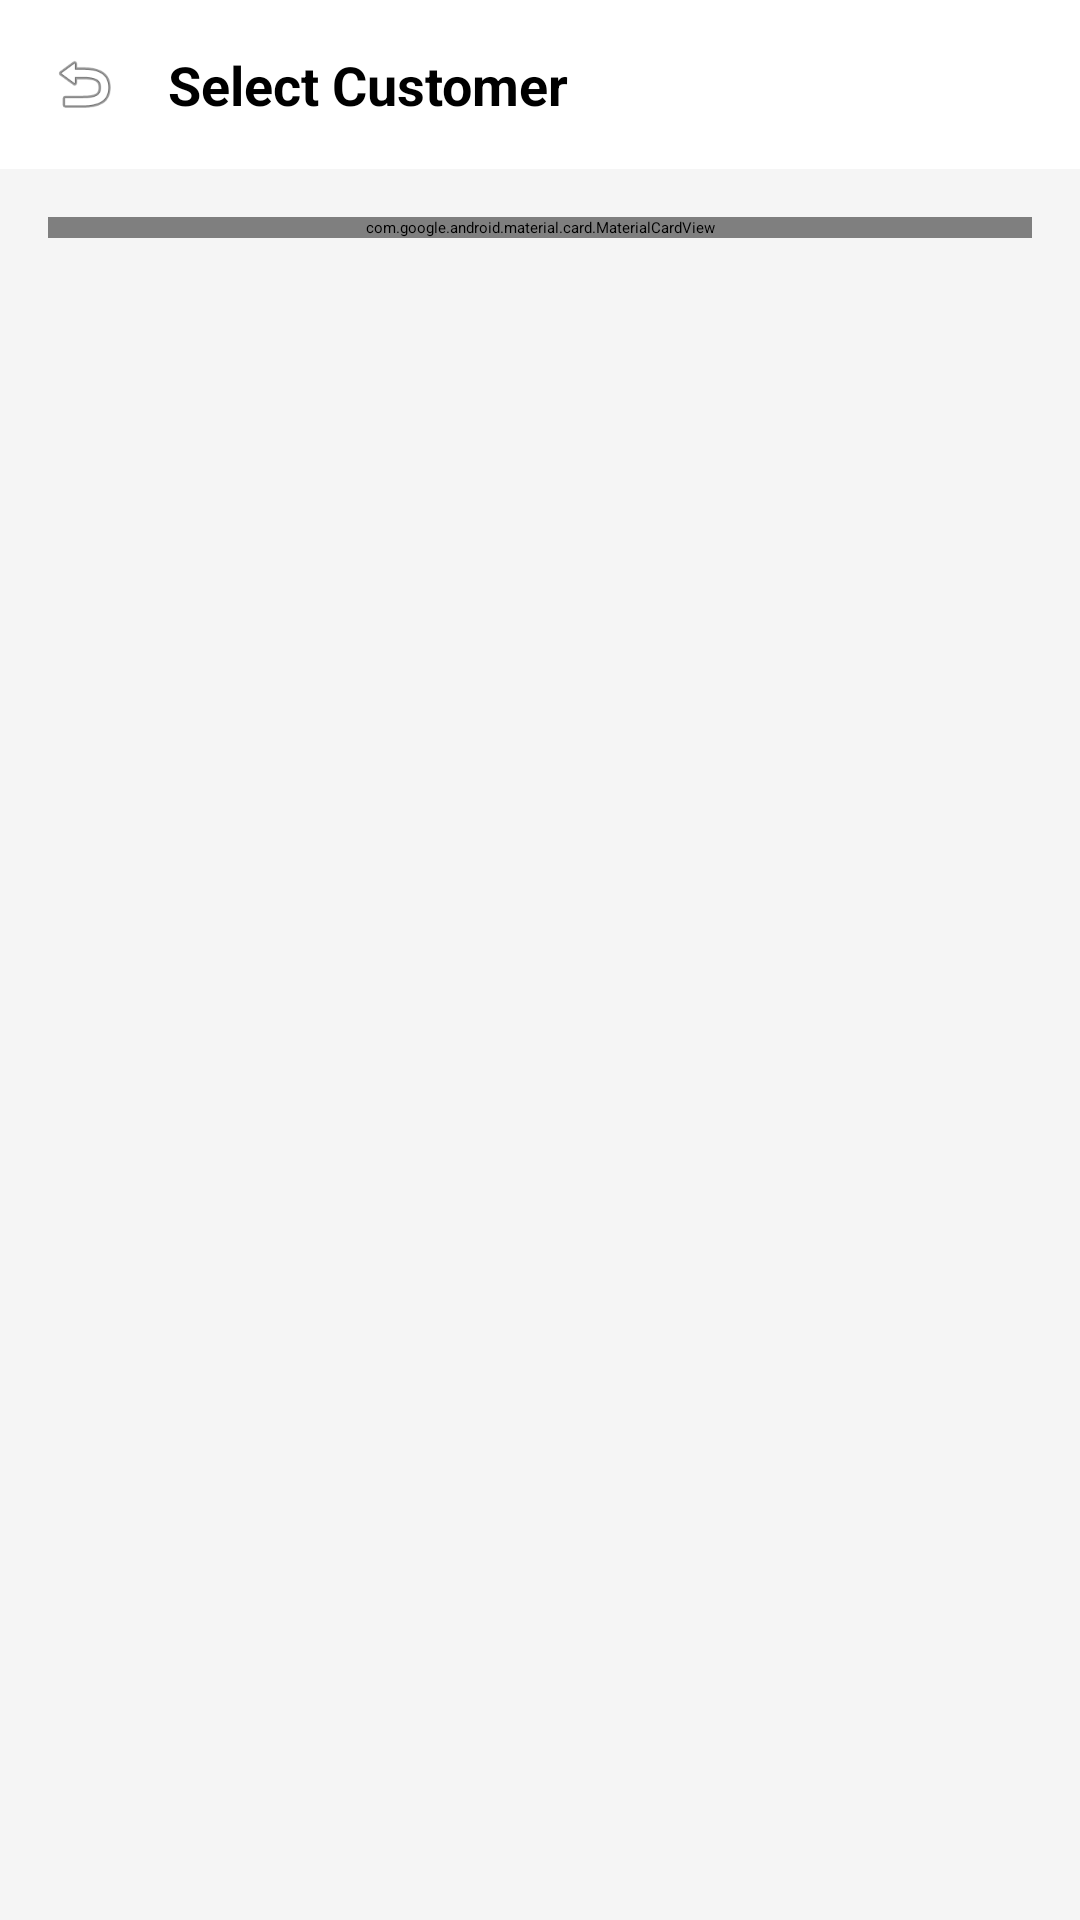

Icon bounding boxes for this 1080px×1920px phone screenshot, format detection(x1, y1, x2, y2):
revert: detection(59, 61, 111, 108)
